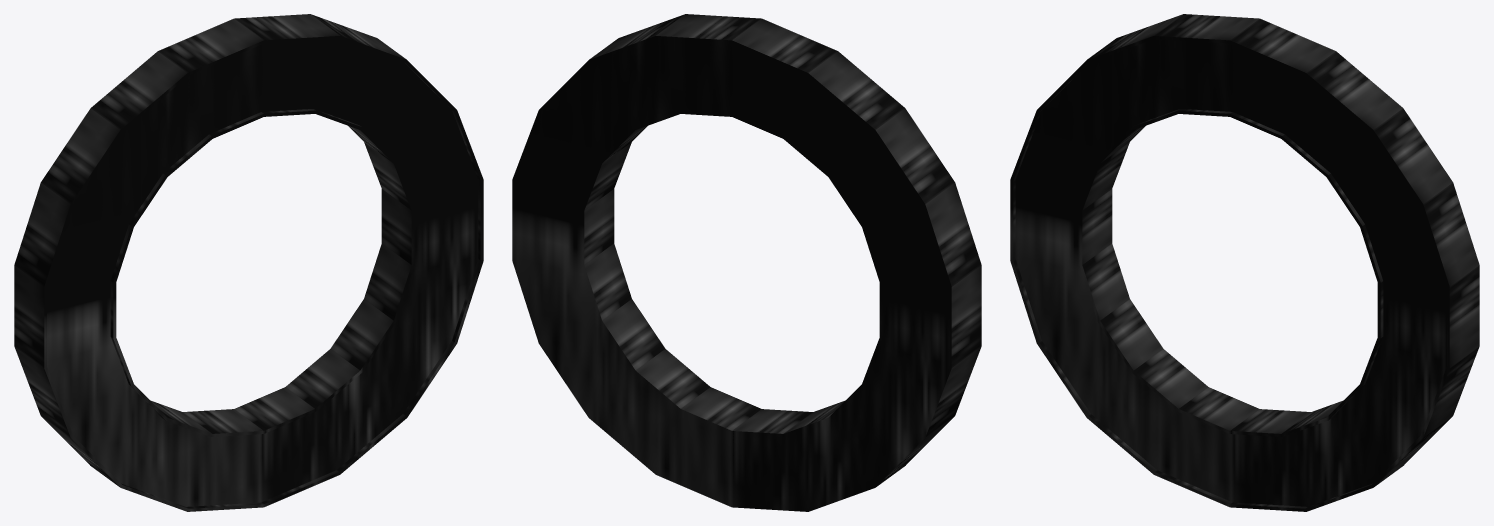
The model's file is original-34.obj.
3 views of the same model, side by side, from view 1: azimuth 30°, elevation 25°; view 2: azimuth 150°, elevation 25°; view 3: azimuth 330°, elevation 25° (orthographic).
Visible parts, largest first — view 1: Group_5/mesh147/mesh147-geometry#mesh147-geometry; view 2: Group_5/mesh147/mesh147-geometry#mesh147-geometry; view 3: Group_5/mesh147/mesh147-geometry#mesh147-geometry.
Boxes of the visible parts, bbox=[...] form: Group_5/mesh147/mesh147-geometry#mesh147-geometry: bbox=[14, 14, 483, 511]; Group_5/mesh147/mesh147-geometry#mesh147-geometry: bbox=[512, 14, 981, 511]; Group_5/mesh147/mesh147-geometry#mesh147-geometry: bbox=[1010, 14, 1479, 511].
Bounding box in the file's own units: 0.1402 × 0.1423 × 0.0165.
